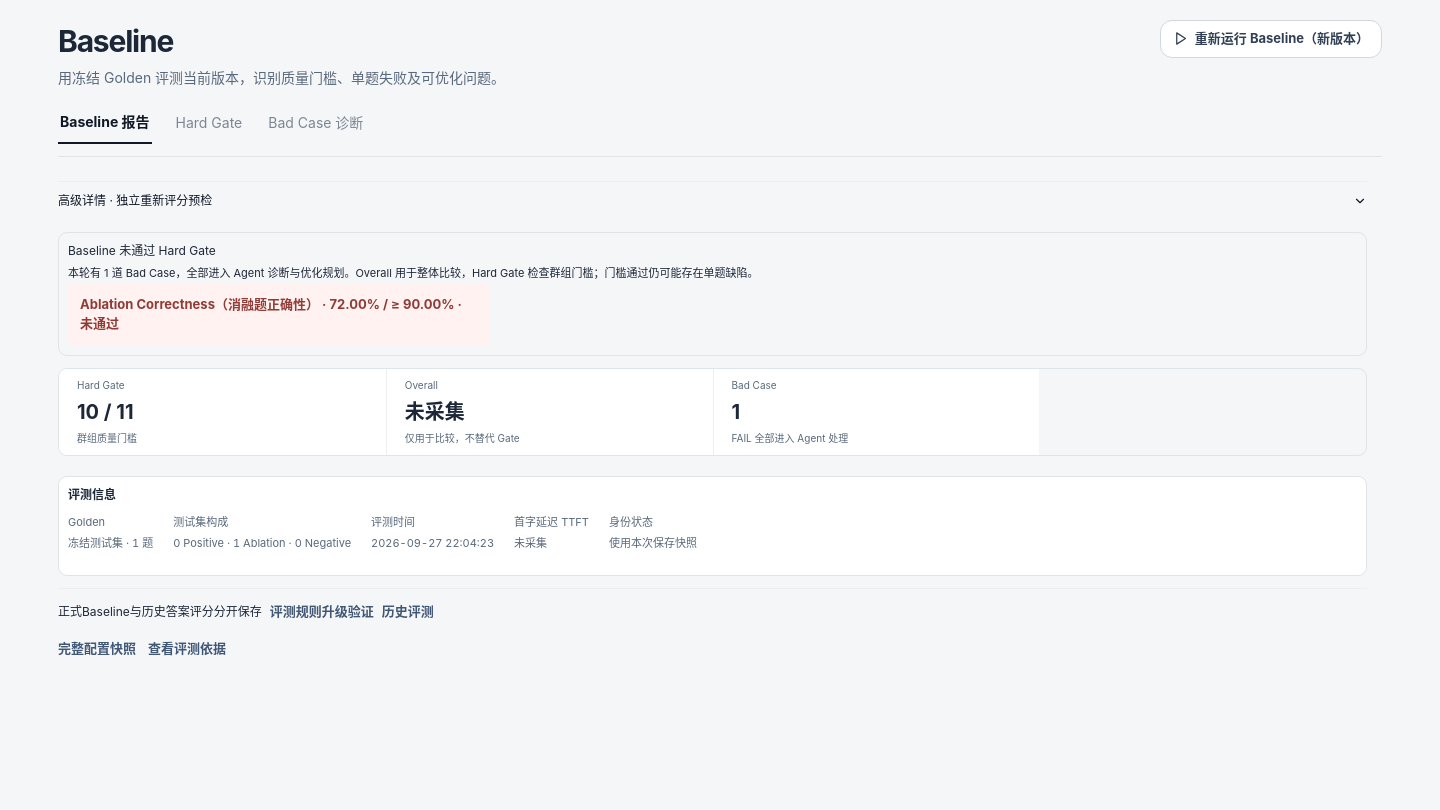
uses saved generation evidence only and keeps technical identity in its Drawer
Click the button "查看评测依据". click: {"x": 187, "y": 649}
box: [148, 636, 226, 662]
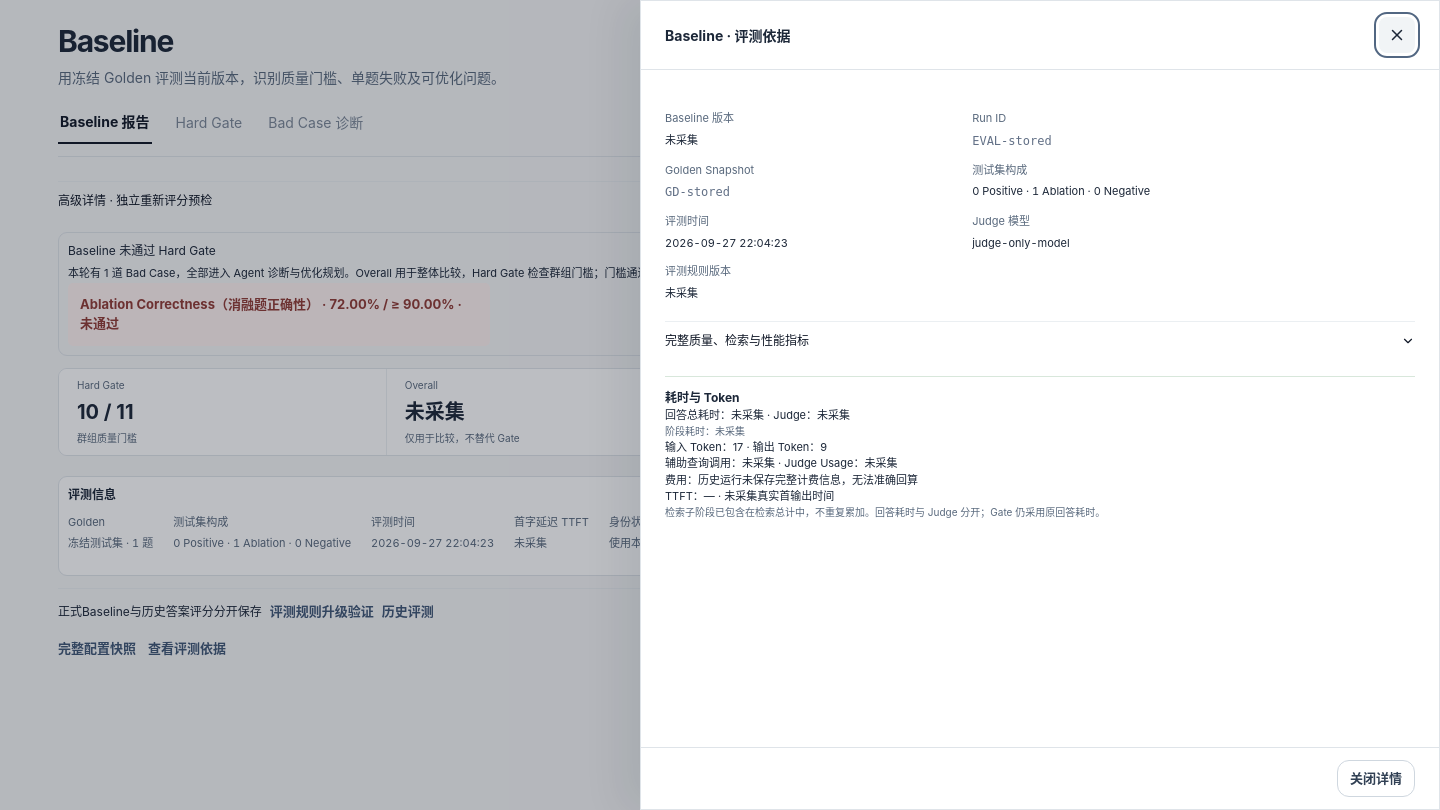
Check: the dialog shows "judge-only-model", box [972, 236, 1070, 250]
Check: the dialog shows "EVAL-stored", box [972, 132, 1052, 150]
